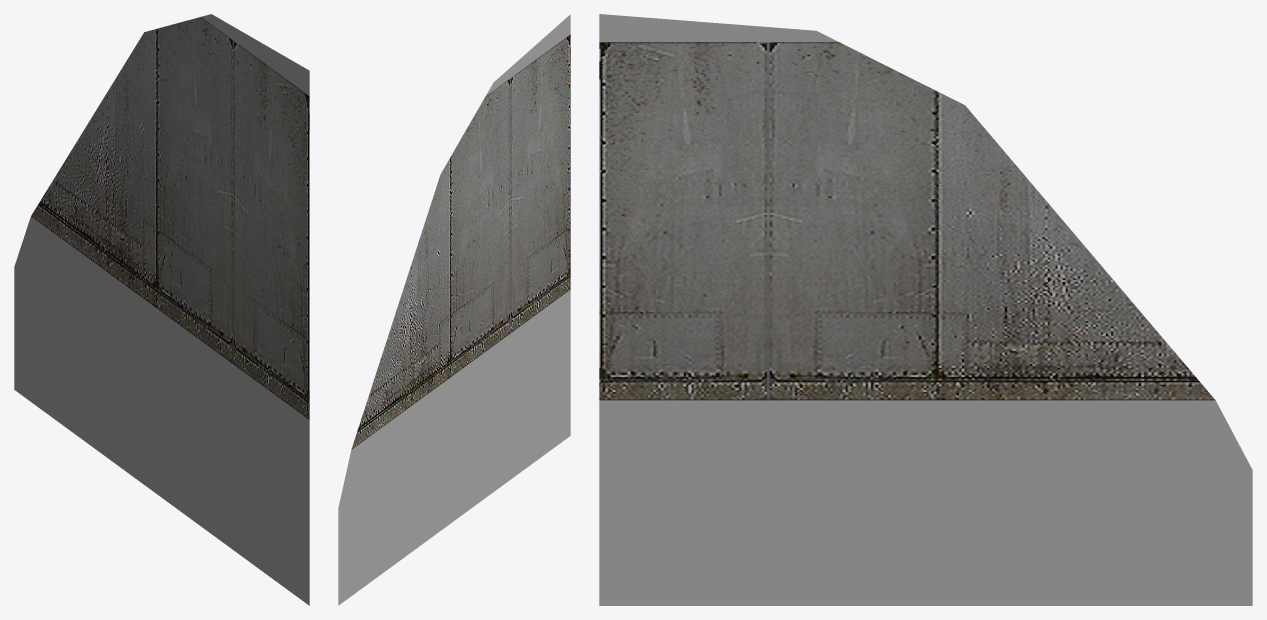
Rendered from Wall_A_Short2mts_01.fbx.
The picture shows the model from 3 angles, left to right: view 1: azimuth 30°, elevation 25°; view 2: azimuth 150°, elevation 25°; view 3: azimuth 270°, elevation 25°; orthographic projection. The views are drawn at different scales.
Parts seen in each view (by area): view 1: Wall_A_Short2mts_01; view 2: Wall_A_Short2mts_01; view 3: Wall_A_Short2mts_01.
Part boxes in pixels (box(x1,y1,x2,y2)): Wall_A_Short2mts_01: box(14, 14, 309, 605); Wall_A_Short2mts_01: box(338, 14, 570, 605); Wall_A_Short2mts_01: box(599, 14, 1252, 605).
Size of the model in its own units: 0.000244 by 200 by 200.
